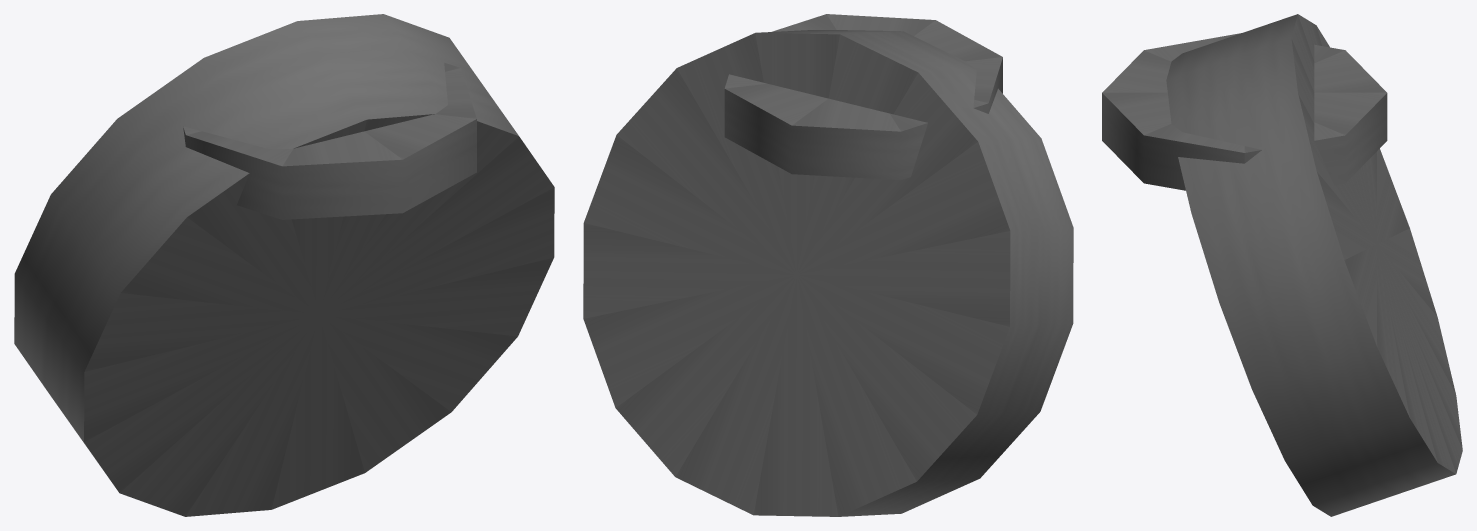
The model's file is mastarmcurve_10x2_c0_up.obj.
3 views of the same model, side by side, from view 1: azimuth 30°, elevation 25°; view 2: azimuth 150°, elevation 25°; view 3: azimuth 270°, elevation 25° (orthographic). The views are drawn at different scales.
Parts seen in each view (by area): view 1: mastarm_10x2_c0_up; view 2: mastarm_10x2_c0_up; view 3: mastarm_10x2_c0_up.
Part boxes in pixels (x1=…): mastarm_10x2_c0_up: x1=14, y1=14, x2=554, y2=516; mastarm_10x2_c0_up: x1=583, y1=14, x2=1073, y2=516; mastarm_10x2_c0_up: x1=1102, y1=14, x2=1462, y2=516.
Bounding box in the file's own units: 0.683 × 0.7053 × 0.506.
